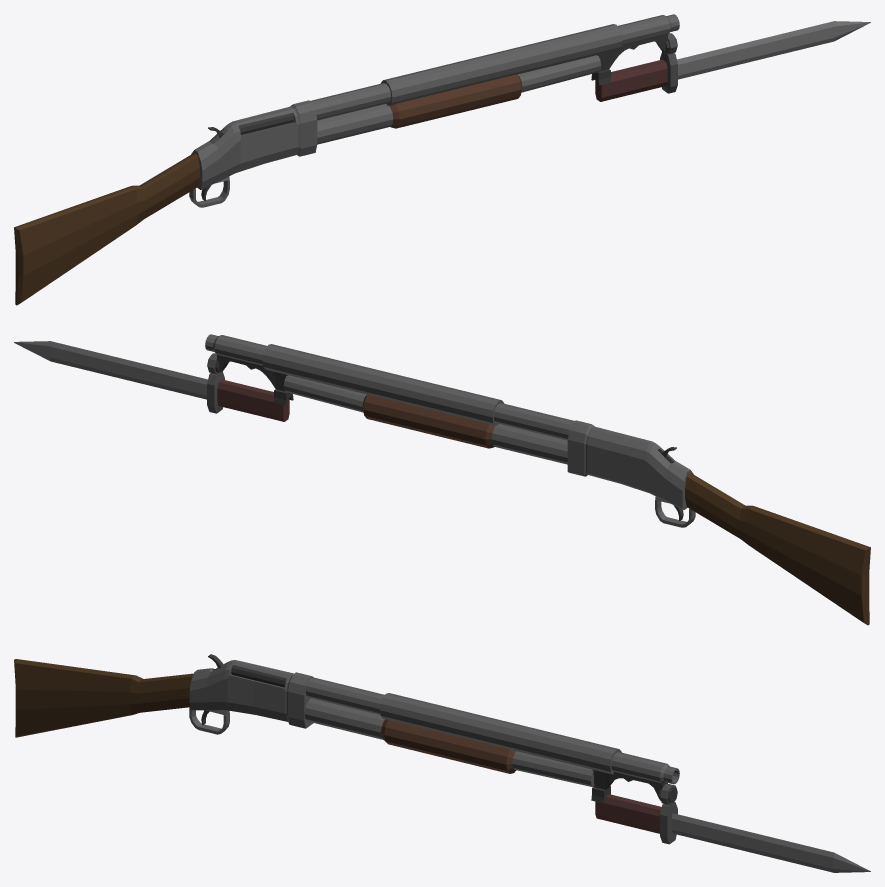
Rendered from WW1 Trench Gun.fbx.
The picture shows the model from 3 angles, top to bottom: view 1: azimuth 30°, elevation 25°; view 2: azimuth 150°, elevation 25°; view 3: azimuth 330°, elevation 25°; orthographic projection.
Parts seen in each view (by area): view 1: WW1 Trench Gun, Bayonet, Pump, Chamber; view 2: WW1 Trench Gun, Bayonet, Pump; view 3: WW1 Trench Gun, Bayonet, Pump, Chamber.
Boxes of the visible parts, box(x1,y1,x2,y2) form: WW1 Trench Gun: box(14, 14, 679, 305); Bayonet: box(595, 21, 870, 101); Pump: box(389, 74, 522, 128); Chamber: box(238, 113, 294, 134); WW1 Trench Gun: box(205, 334, 870, 625); Bayonet: box(14, 341, 289, 421); Pump: box(362, 394, 495, 448); WW1 Trench Gun: box(14, 659, 679, 803); Bayonet: box(595, 784, 870, 872); Pump: box(381, 719, 516, 773); Chamber: box(231, 665, 286, 687).
Bounding box in the file's own units: 1053 × 157 × 33.
